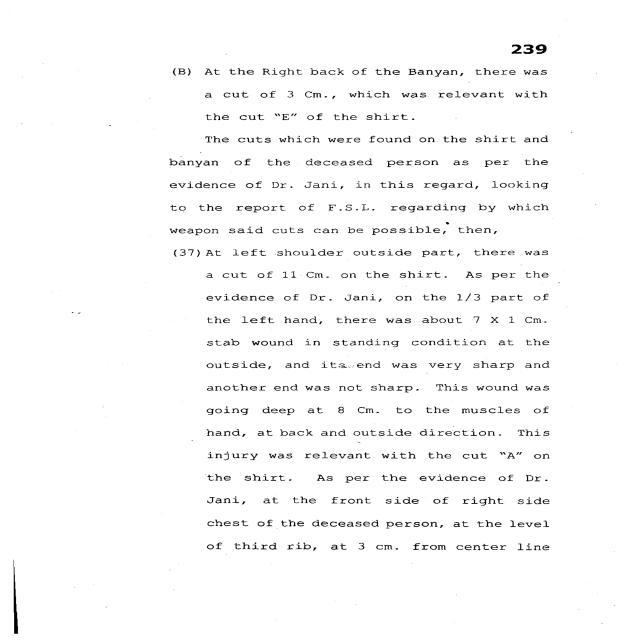page-number: (433, 0, 634, 59)
